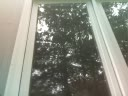window: (38, 4, 86, 96), (111, 3, 127, 29), (120, 30, 127, 47)
